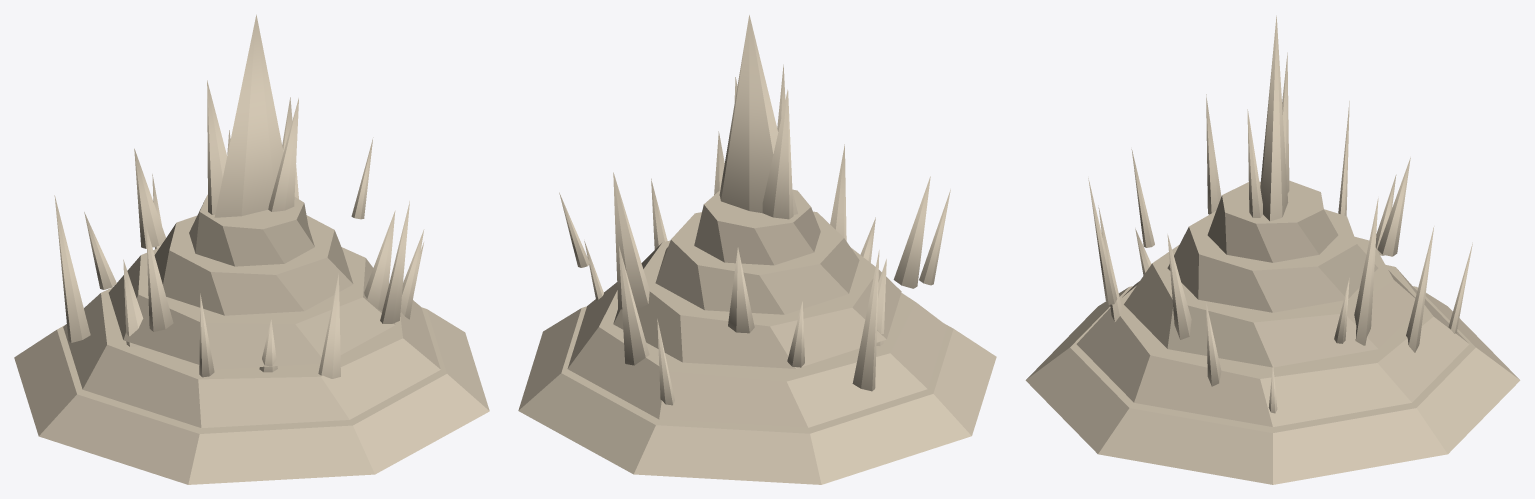
File: throne_pyramid.glb
3 views of the same model, side by side, from view 1: azimuth 30°, elevation 25°; view 2: azimuth 150°, elevation 25°; view 3: azimuth 270°, elevation 25° (orthographic).
Parts seen in each view (by area): view 1: throne_pyramid; view 2: throne_pyramid; view 3: throne_pyramid.
Boxes of the visible parts, x1,y1,x2,y2 form: throne_pyramid: [14, 14, 489, 484]; throne_pyramid: [518, 15, 996, 484]; throne_pyramid: [1025, 15, 1520, 484].
Bounding box in the file's own units: 6.8 × 5.6 × 6.8.
